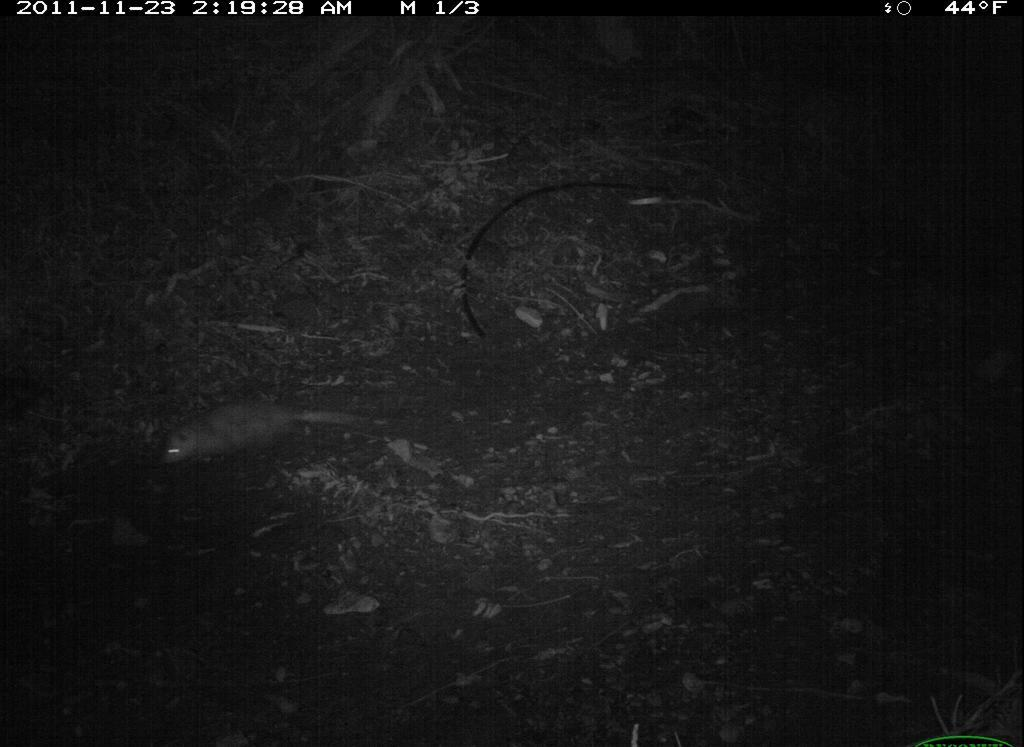opossum: (157, 382, 382, 482)
